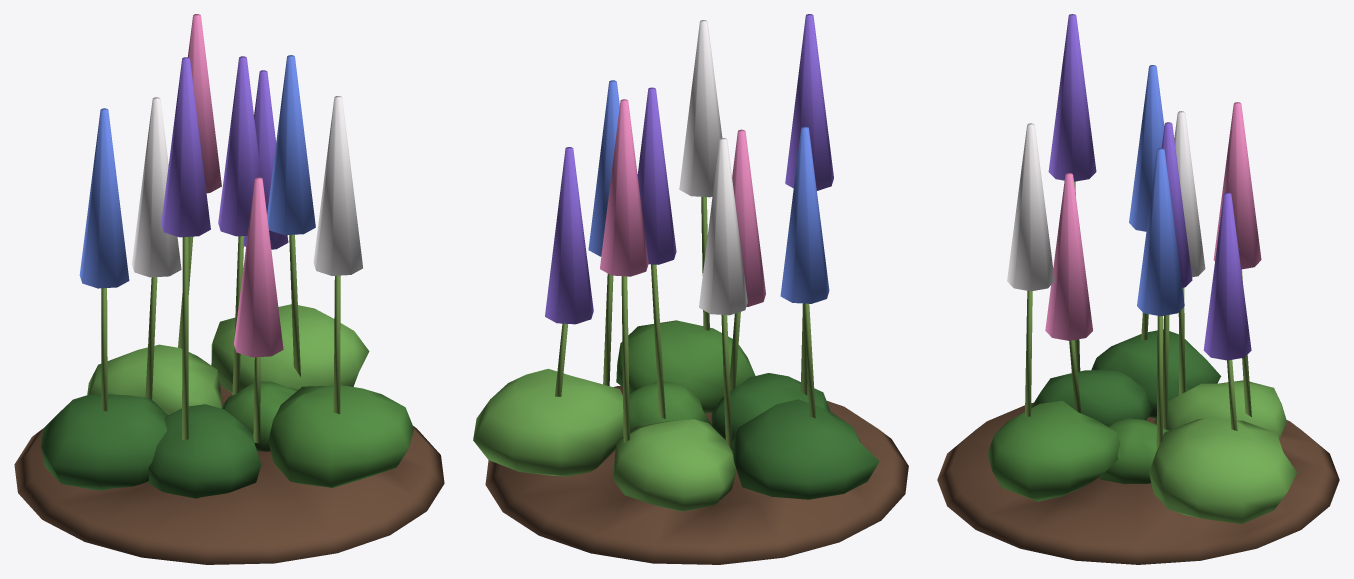
Rendered from lupins.glb.
3 renders of one model, left to right at view 1: azimuth 30°, elevation 25°; view 2: azimuth 150°, elevation 25°; view 3: azimuth 270°, elevation 25°, orthographic. The views are drawn at different scales.
Parts seen in each view (by area): view 1: lupins; view 2: lupins; view 3: lupins.
Boxes of the visible parts, x1,y1,x2,y2 form: lupins: (14, 14, 444, 564); lupins: (473, 14, 908, 564); lupins: (937, 14, 1339, 564).
Bounding box in the file's own units: 0.84 × 0.9867 × 0.84.
